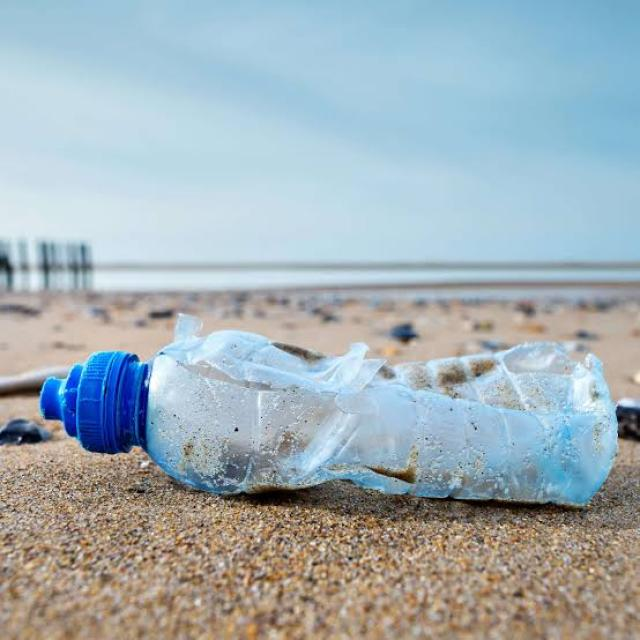plastic bottle: (30, 309, 633, 527)
